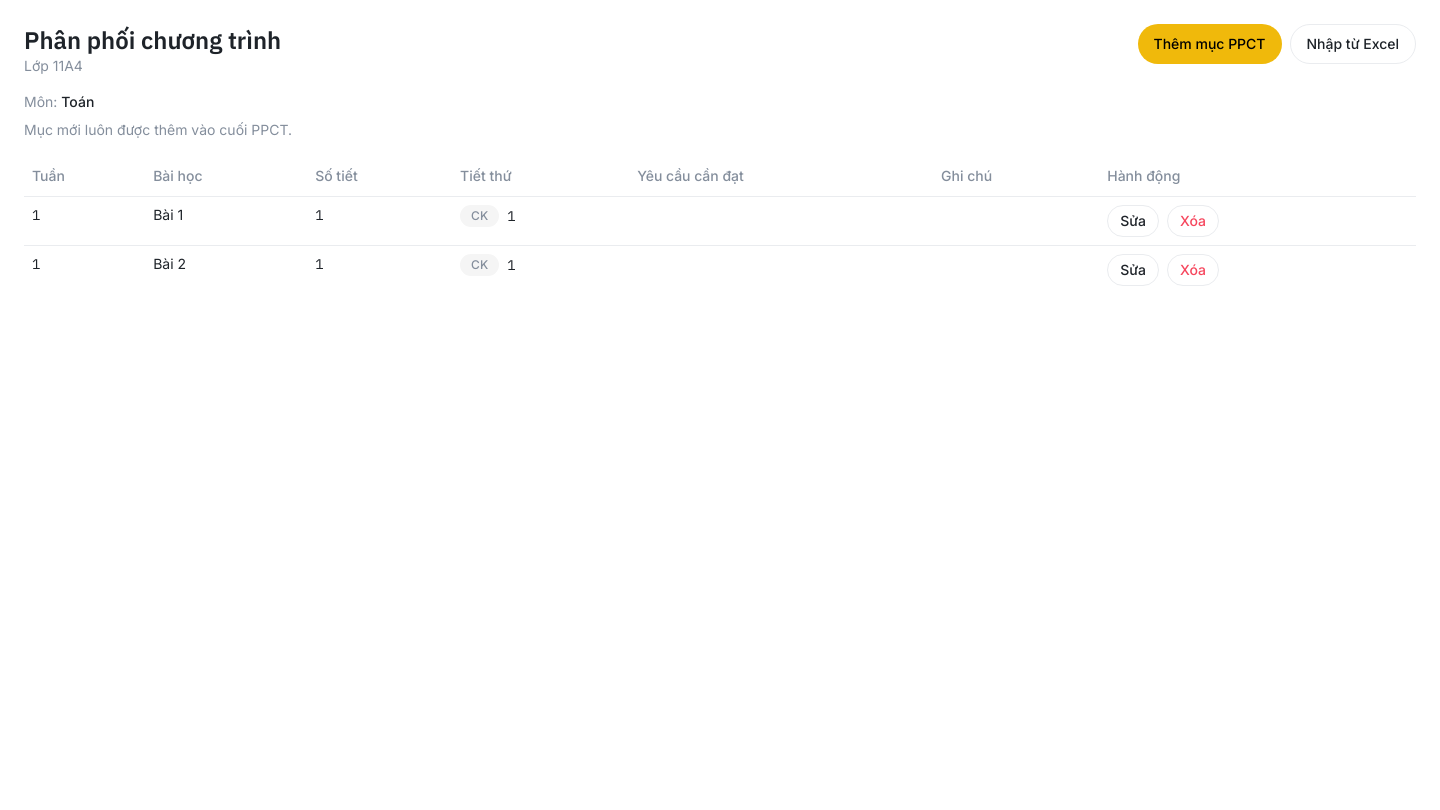
it: xóa mục: gửi đúng DELETE và dòng biến khỏi bảng sau khi bảng tự làm mới
This screenshot has width=1440, height=810.
Expected: the text "Bài 2" is shown, top-left (145, 245), bottom-right (307, 294)
What coordinates should you click on to do the following:
click the button "Xóa" in the row of "Bài 1"
I would click on:
 (1193, 220)
Its box is top-left (1167, 204), bottom-right (1219, 236).
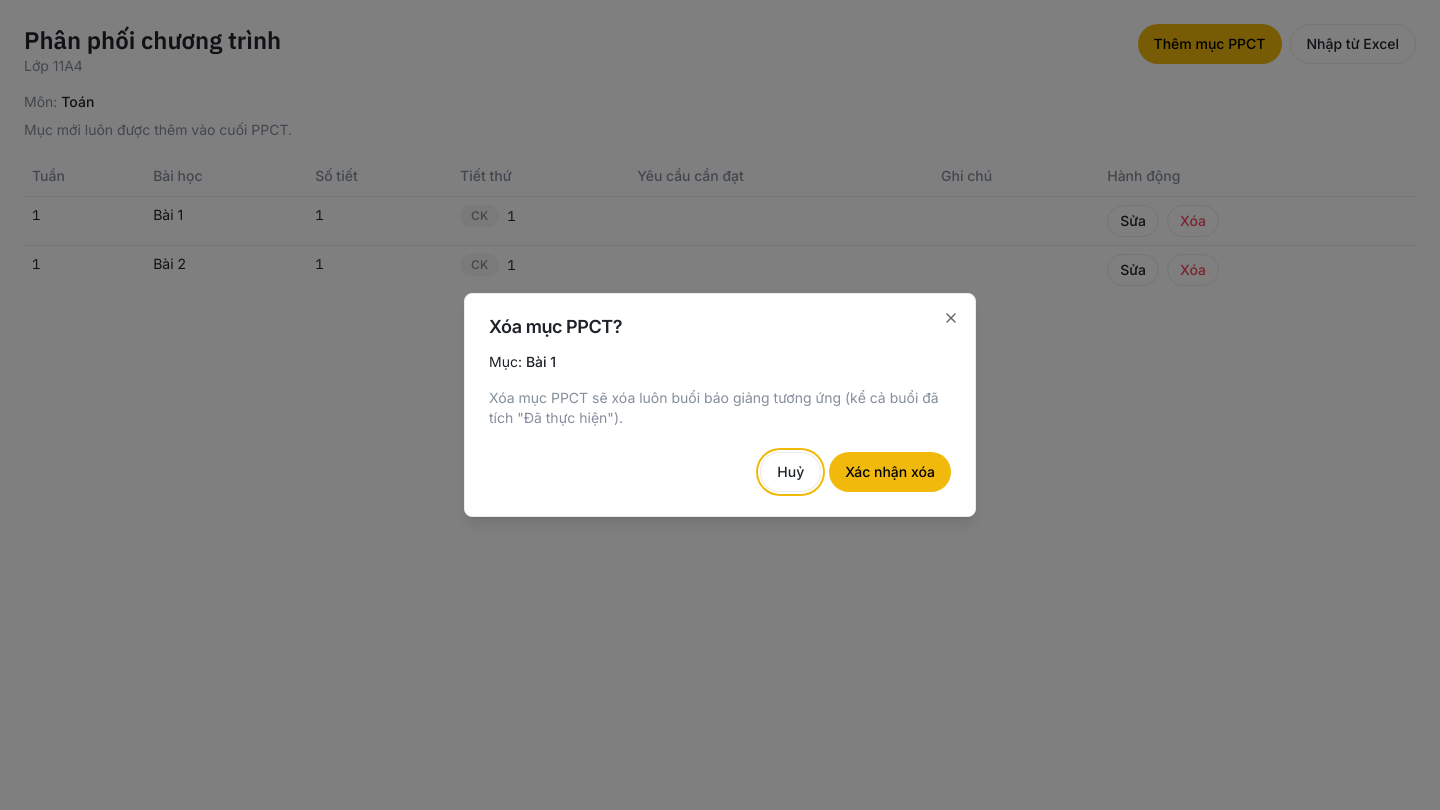
What coordinates should you click on to do the following:
click the button "Xác nhận xóa"
I would click on:
 (890, 472)
Its box is top-left (829, 452), bottom-right (951, 492).
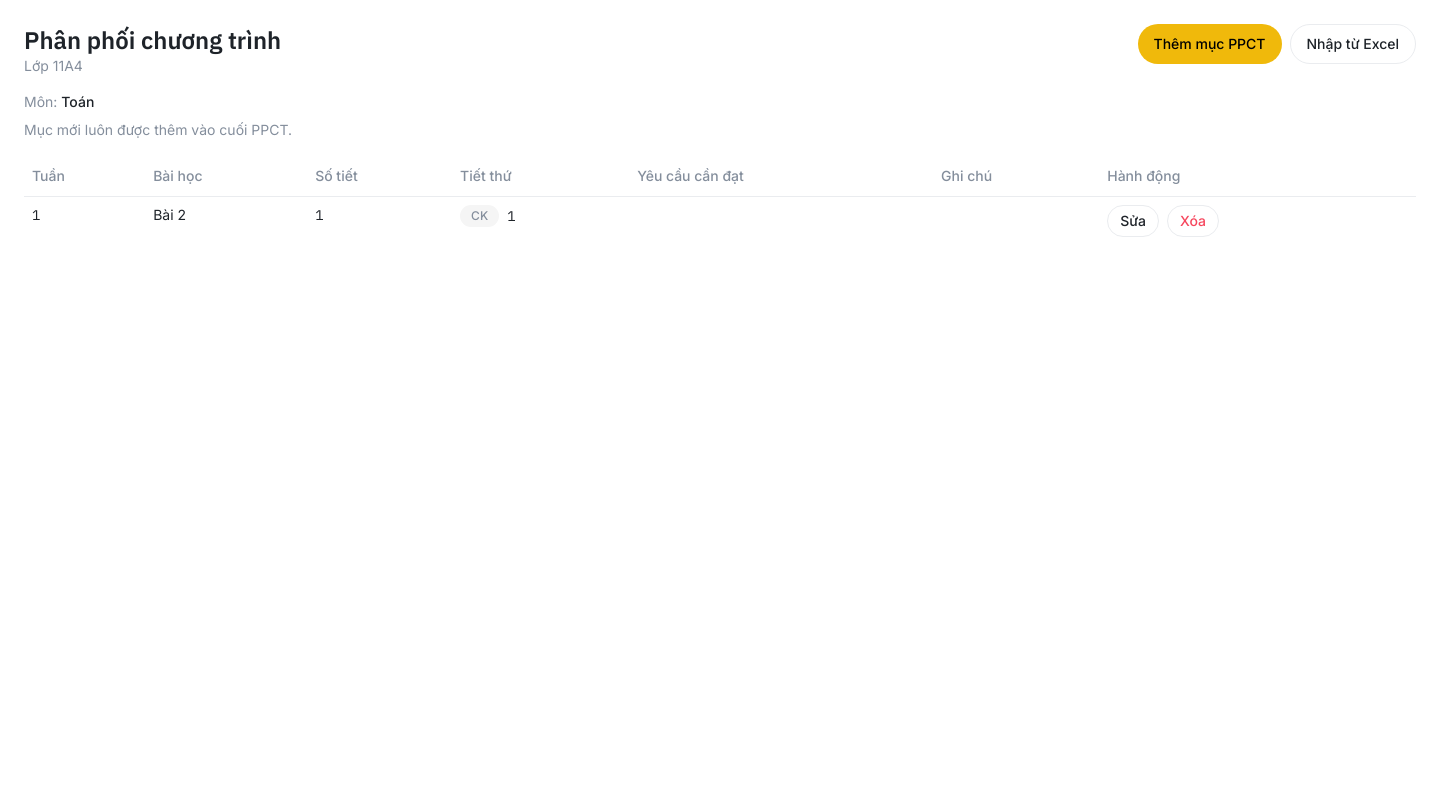
Expected: the text "Bài 2" is shown, top-left (145, 196), bottom-right (307, 244)
Result: the text "Bài 1" is gone
